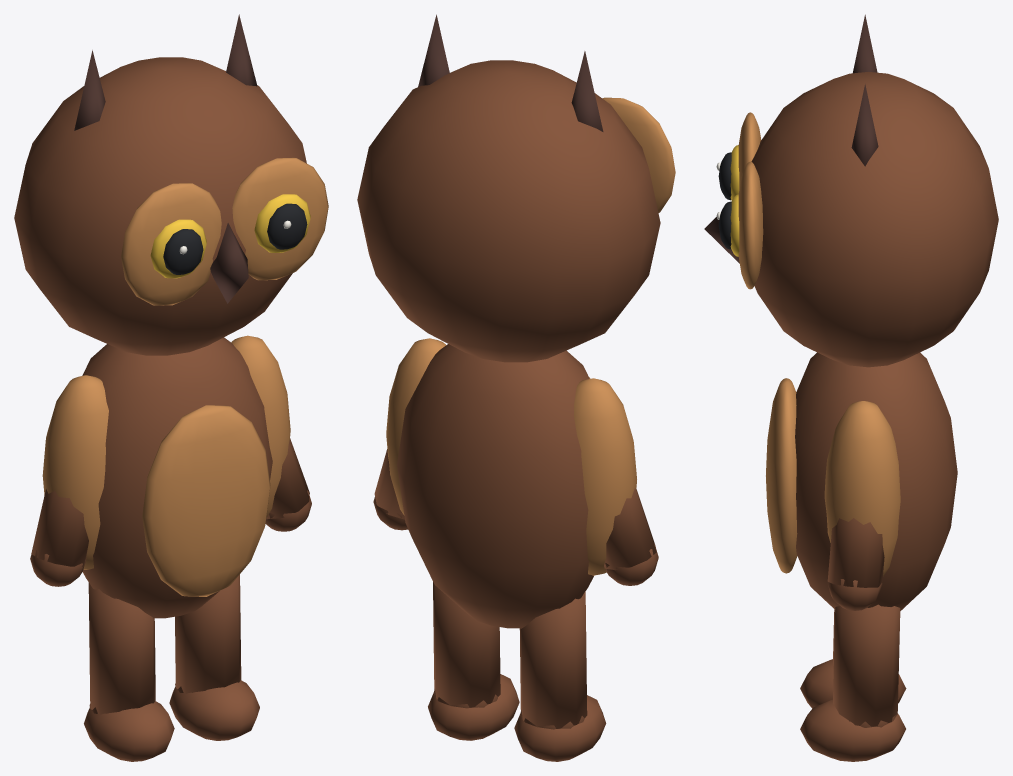
File: jastrebaca-owl.glb
3 views of the same model, side by side, from view 1: azimuth 30°, elevation 25°; view 2: azimuth 150°, elevation 25°; view 3: azimuth 270°, elevation 25° (orthographic). The views are drawn at different scales.
Visible parts, largest first — view 1: Asset.jastrebaca-owl; view 2: Asset.jastrebaca-owl; view 3: Asset.jastrebaca-owl.
Boxes of the visible parts, box(x1,y1,x2,y2) form: Asset.jastrebaca-owl: box(14, 14, 328, 761); Asset.jastrebaca-owl: box(357, 14, 675, 761); Asset.jastrebaca-owl: box(704, 14, 998, 761).
Size of the model in its own units: 1.8 by 4.43 by 1.72.
